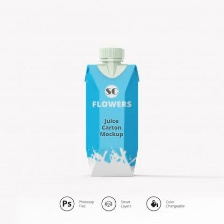carton: (80, 40, 147, 182)
